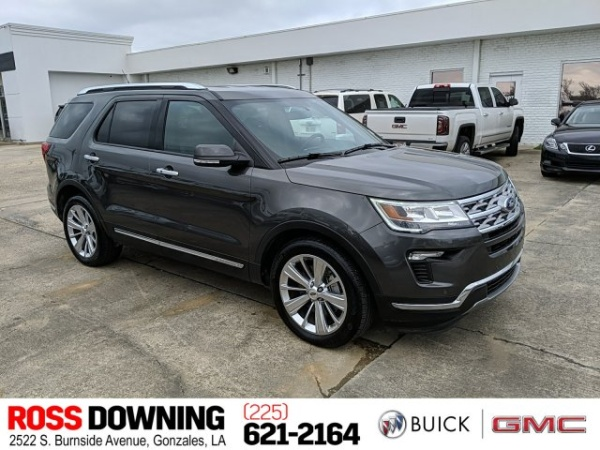Ford Explorer: (36, 79, 529, 351)
